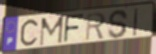C: (19, 17, 41, 50)
F: (63, 13, 85, 44)
I: (132, 8, 139, 38)
M: (38, 15, 65, 48)
R: (84, 12, 107, 42)
S: (107, 9, 129, 40)
